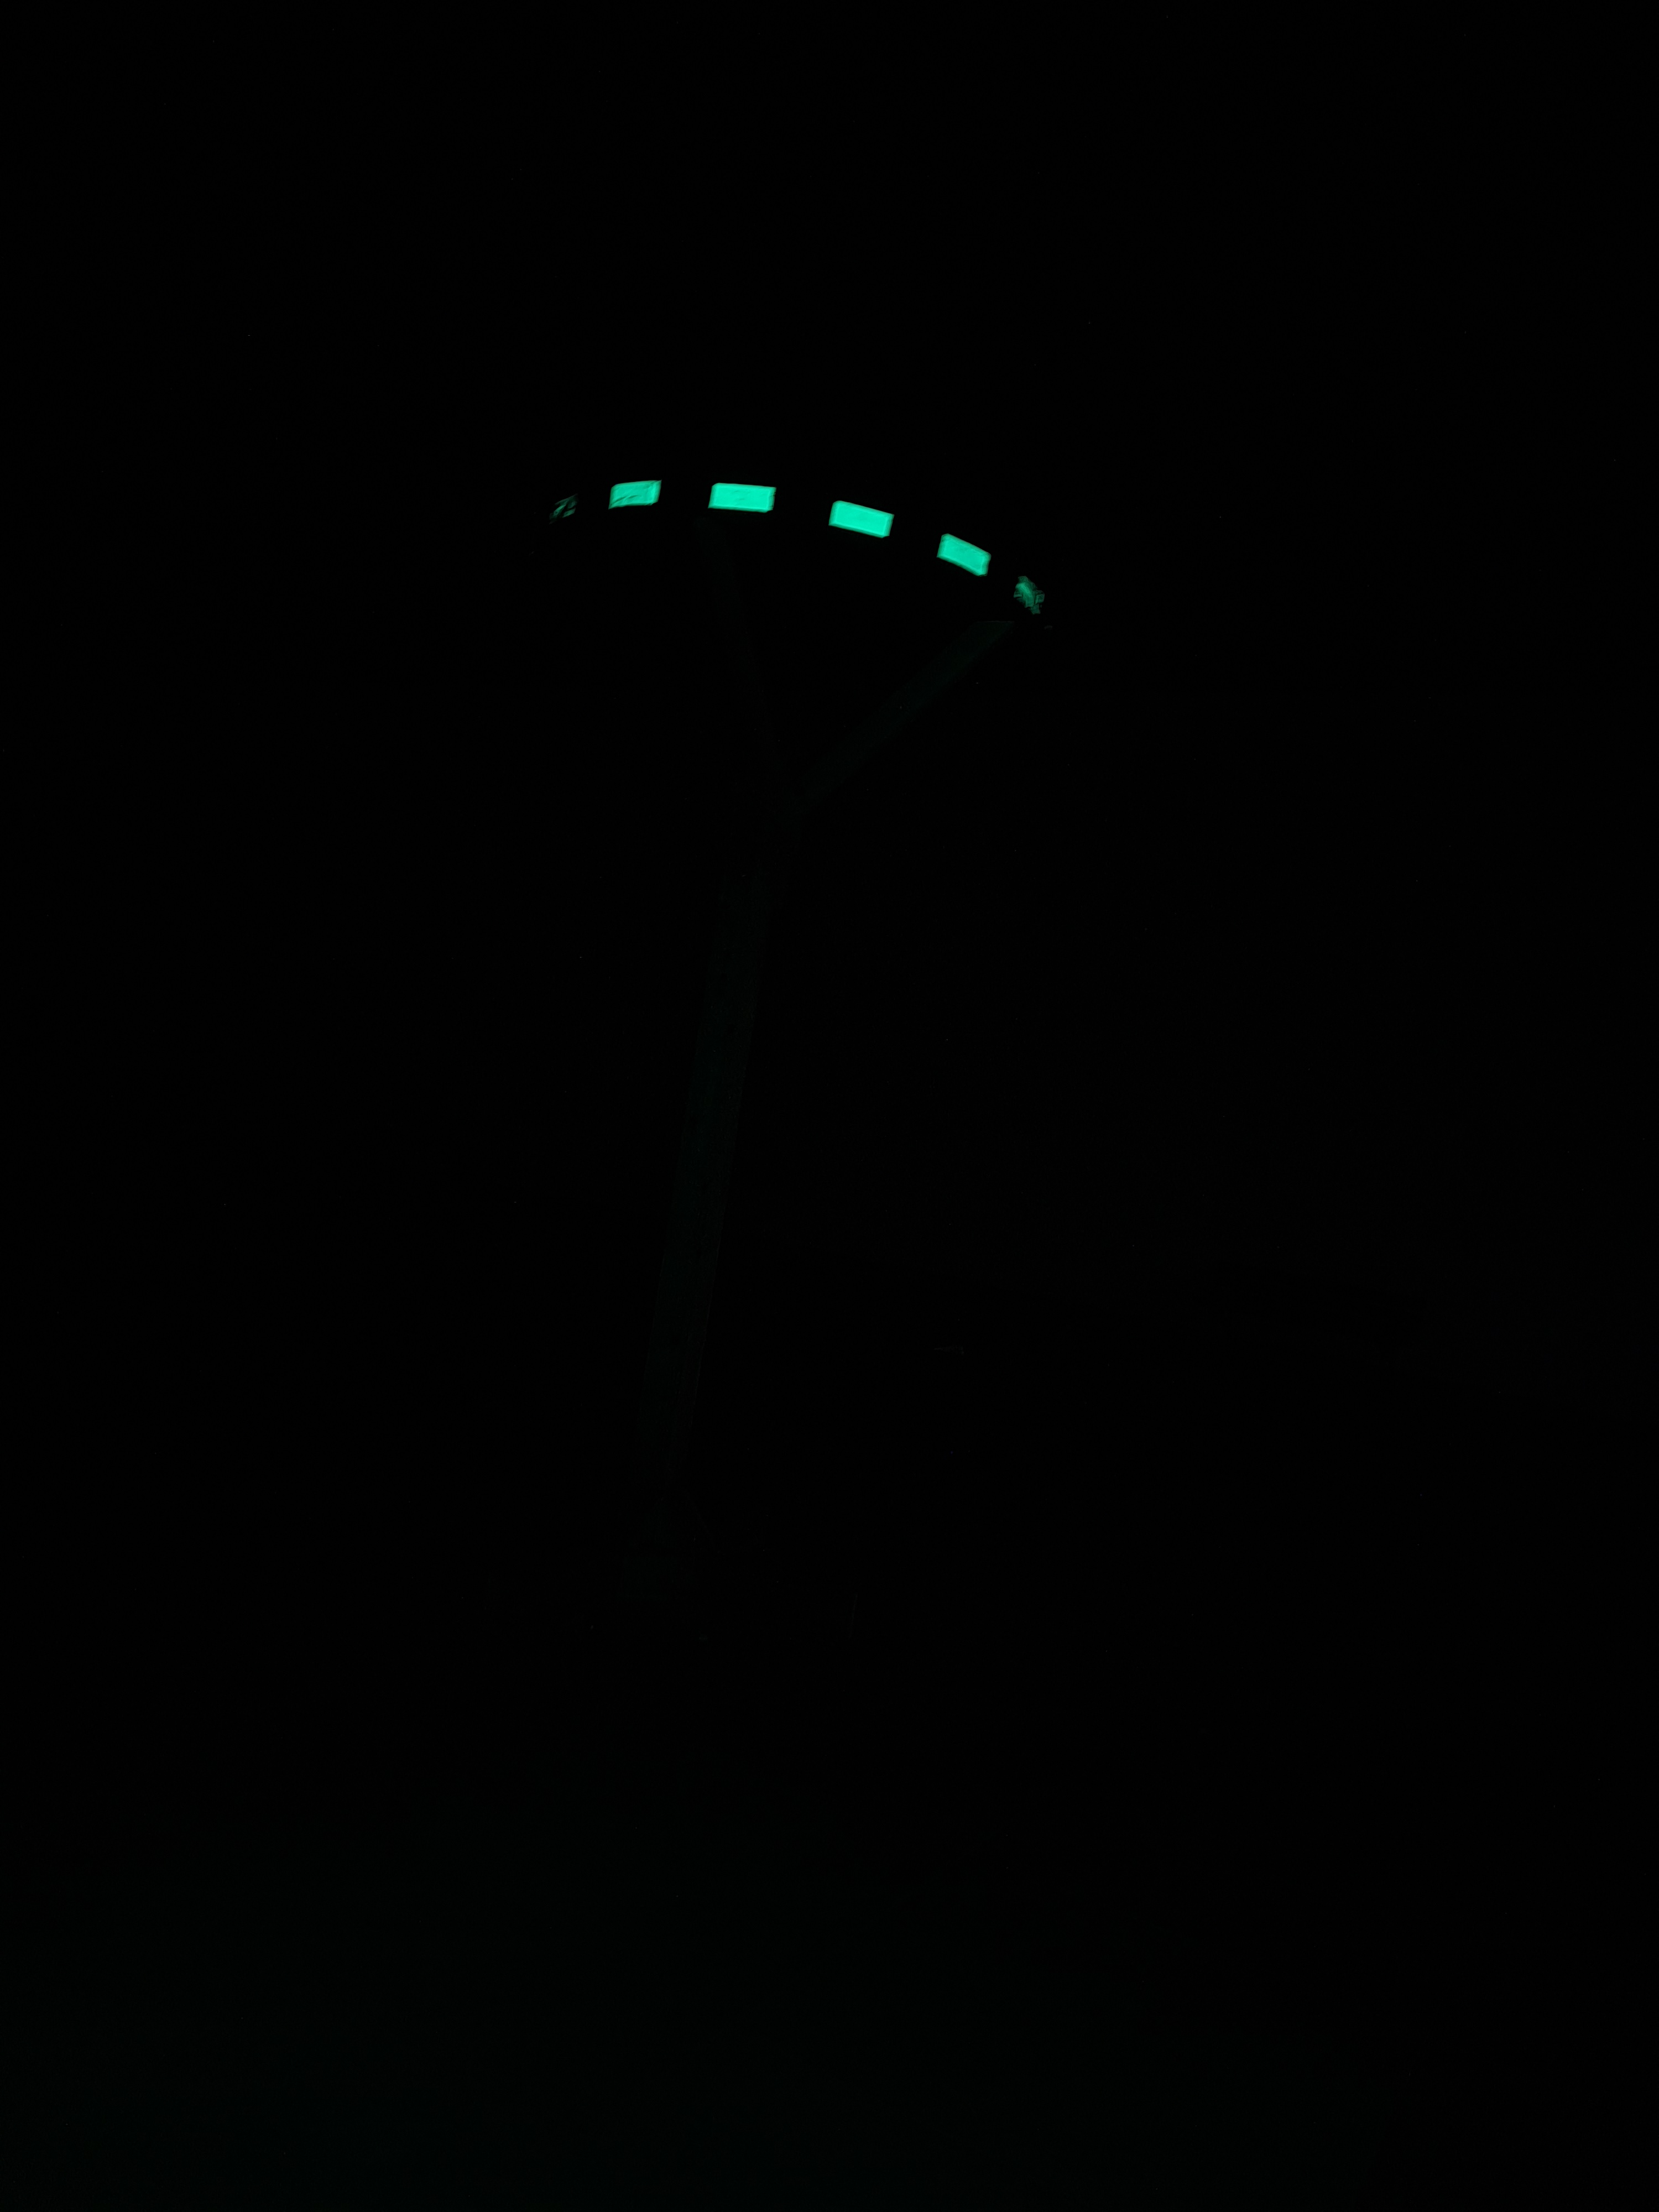hoop: (516, 460, 1058, 636)
